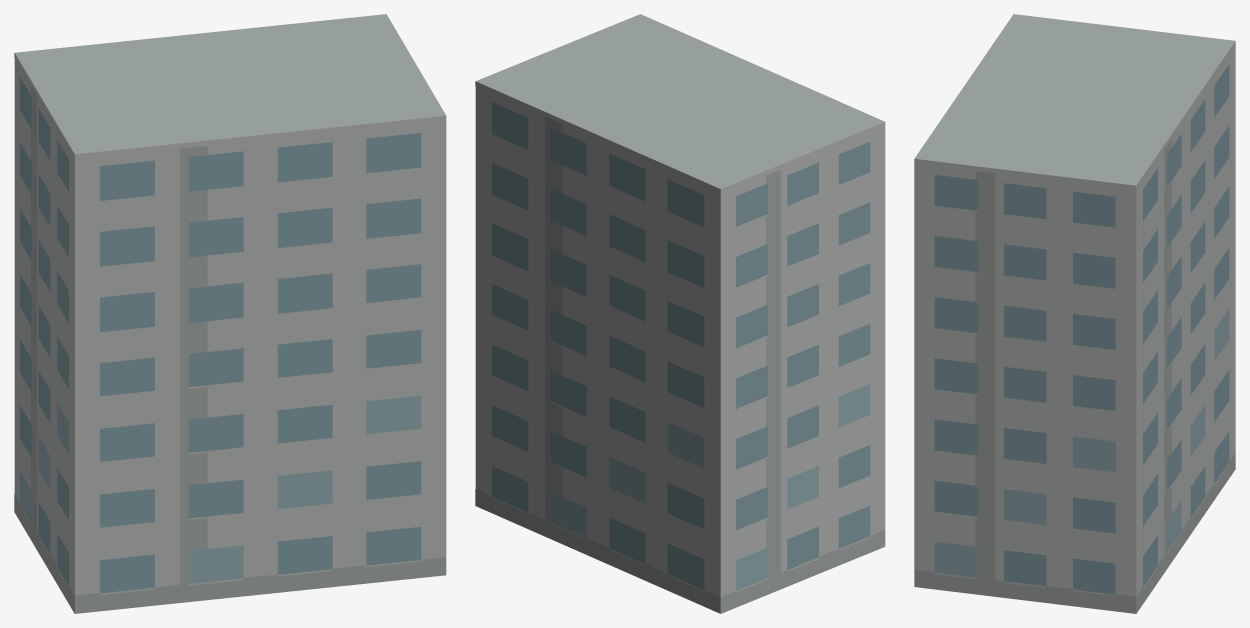
Rendered from survey-upis-32874489.glb.
3 renders of one model, left to right at view 1: azimuth 30°, elevation 25°; view 2: azimuth 150°, elevation 25°; view 3: azimuth 270°, elevation 25°, orthographic. The views are drawn at different scales.
Visible parts, largest first — view 1: survey-upis-32874489.tmp; view 2: survey-upis-32874489.tmp; view 3: survey-upis-32874489.tmp.
Part boxes in pixels (x1=…): survey-upis-32874489.tmp: x1=14, y1=14, x2=446, y2=613; survey-upis-32874489.tmp: x1=475, y1=14, x2=885, y2=613; survey-upis-32874489.tmp: x1=914, y1=14, x2=1235, y2=613.
Bounding box in the file's own units: 18.37 × 21.35 × 14.53.
